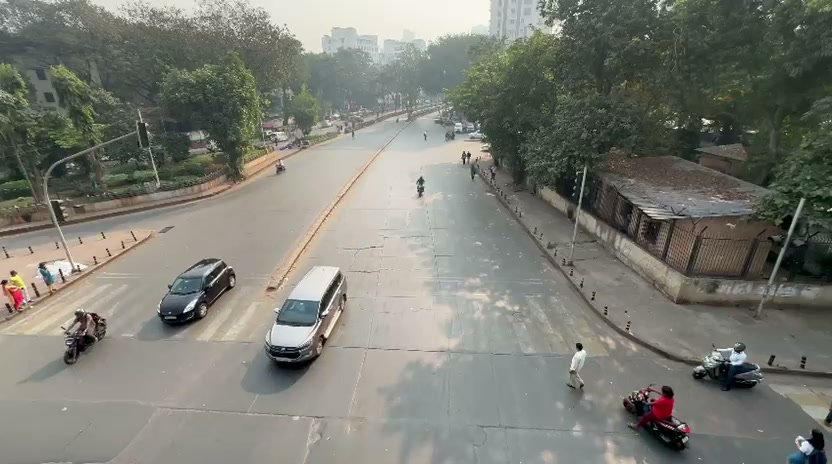car: (263, 265, 348, 367), (157, 257, 238, 326)
motorcycle: (692, 347, 764, 390), (636, 406, 692, 451), (62, 309, 104, 365), (716, 359, 763, 390)
pedestrian: (647, 385, 675, 428), (6, 269, 28, 311), (567, 342, 586, 390), (806, 429, 828, 464), (786, 436, 812, 463), (0, 279, 19, 314), (727, 341, 747, 372), (38, 262, 57, 289), (461, 150, 471, 166)
